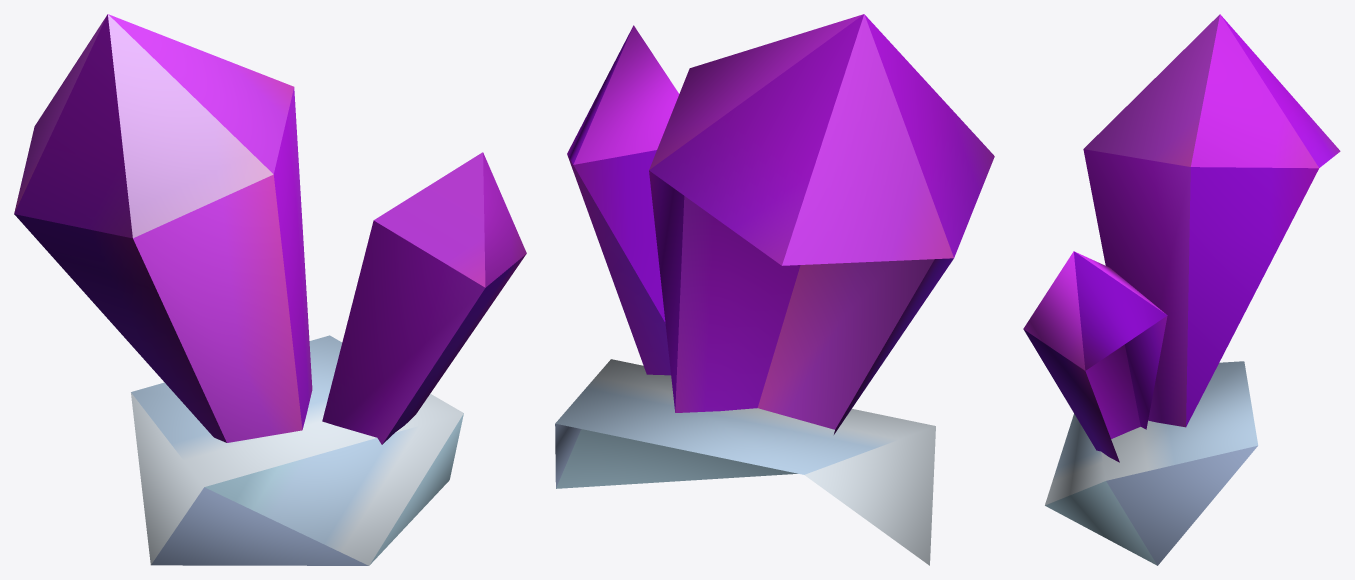
File: fg_amethyst_out.dae
3 renders of one model, left to right at view 1: azimuth 30°, elevation 25°; view 2: azimuth 150°, elevation 25°; view 3: azimuth 270°, elevation 25°, orthographic. The views are drawn at different scales.
Visible parts, largest first — view 1: fg_amethyst_out; view 2: fg_amethyst_out; view 3: fg_amethyst_out.
Boxes of the visible parts, box(x1,y1,x2,y2) form: fg_amethyst_out: box(14, 14, 526, 565); fg_amethyst_out: box(555, 14, 994, 565); fg_amethyst_out: box(1023, 14, 1340, 565).
Size of the model in its own units: 14.25 by 16.48 by 11.07.
Materials: 1 (1 with a texture image).
